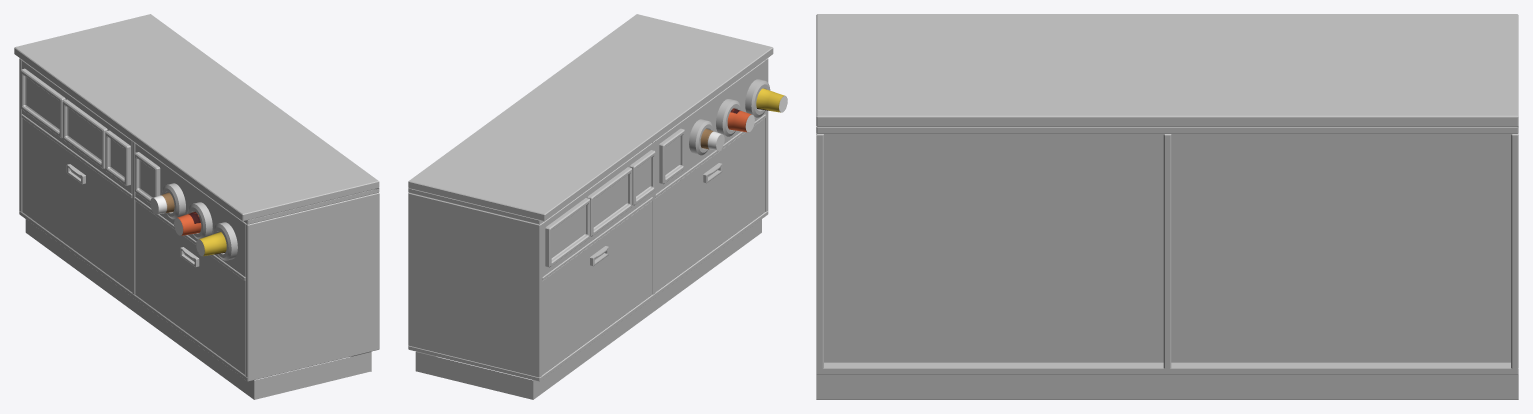
File: SM_TableCups.fbx
3 renders of one model, left to right at view 1: azimuth 30°, elevation 25°; view 2: azimuth 150°, elevation 25°; view 3: azimuth 270°, elevation 25°, orthographic. The views are drawn at different scales.
Visible parts, largest first — view 1: SM_TableCups_LOD0; view 2: SM_TableCups_LOD0; view 3: SM_TableCups_LOD0.
Part boxes in pixels (x1,y1,x2,y2): SM_TableCups_LOD0: (14,14,379,399); SM_TableCups_LOD0: (408,14,787,399); SM_TableCups_LOD0: (816,14,1518,399).
Size of the model in its own units: 98.71 by 240 by 109.
